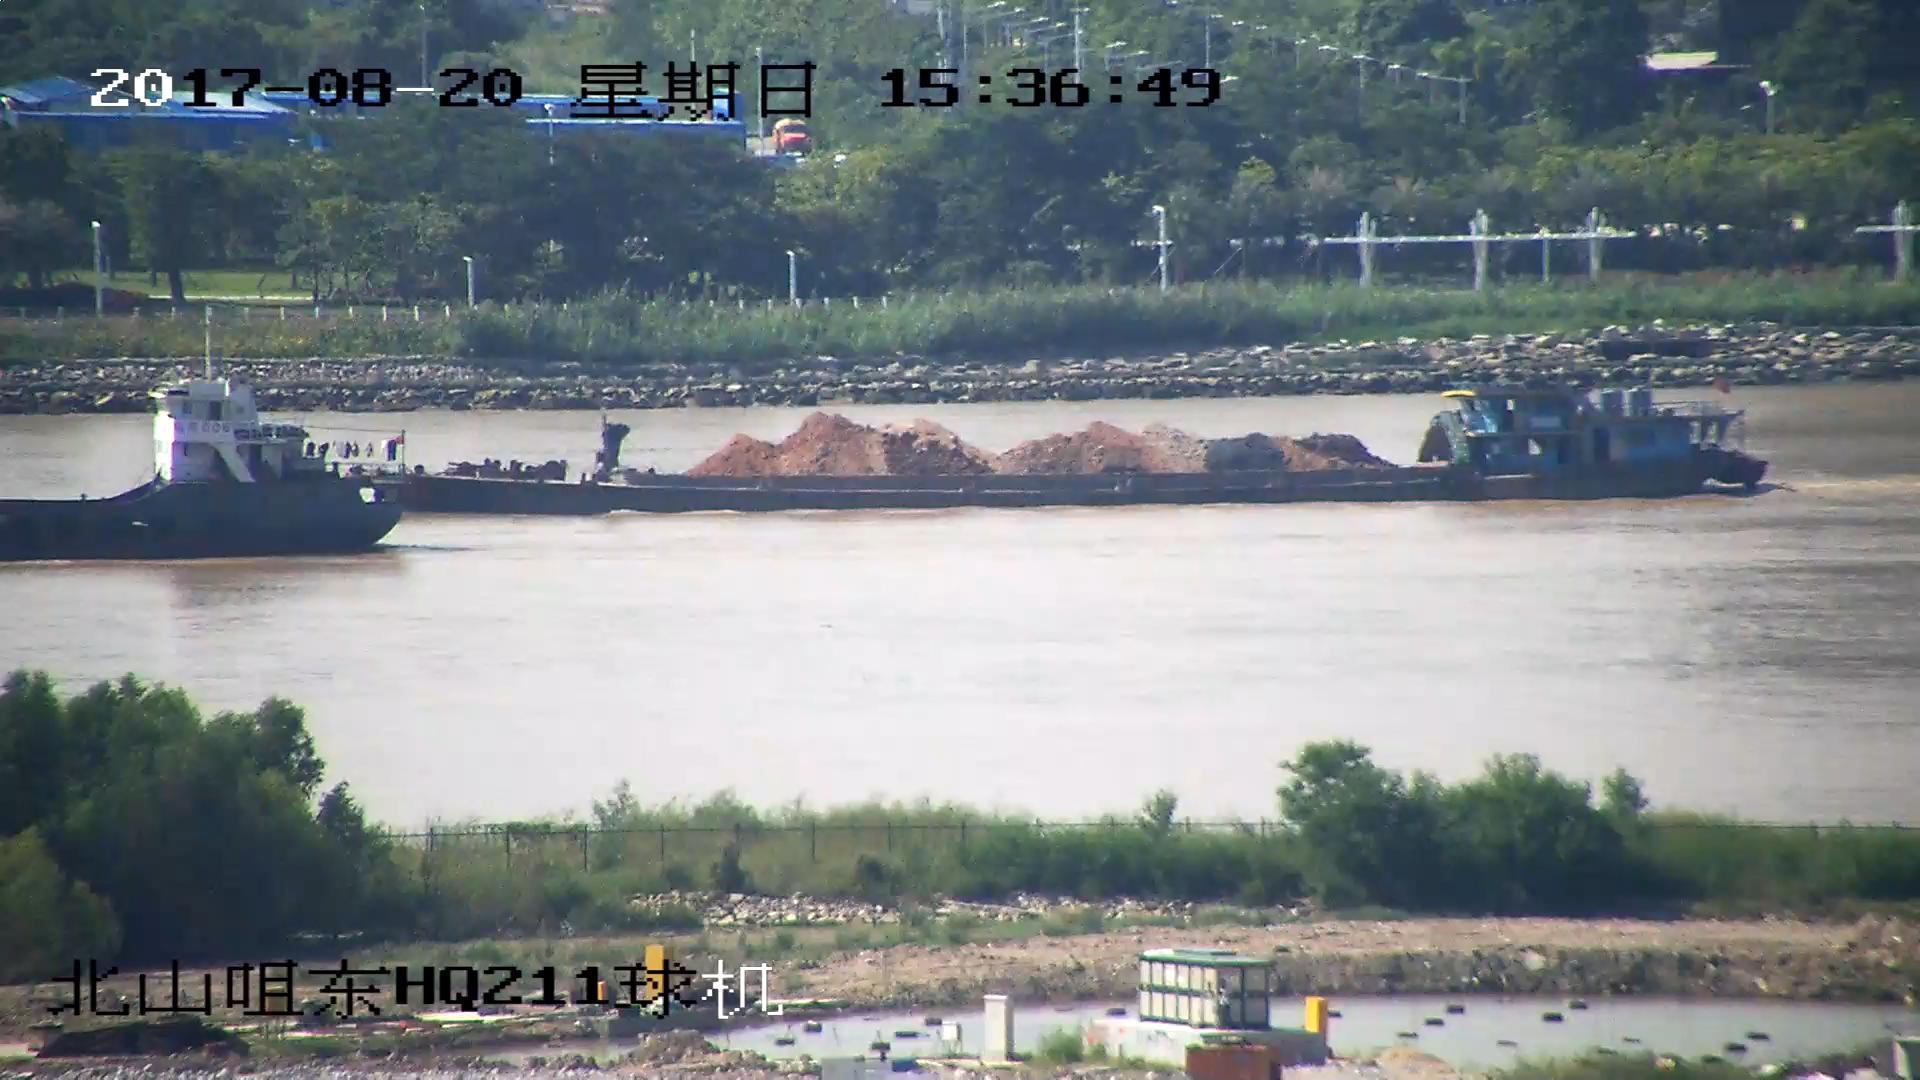general cargo ship: (1, 312, 414, 563)
ore carrier: (351, 342, 1780, 516)
